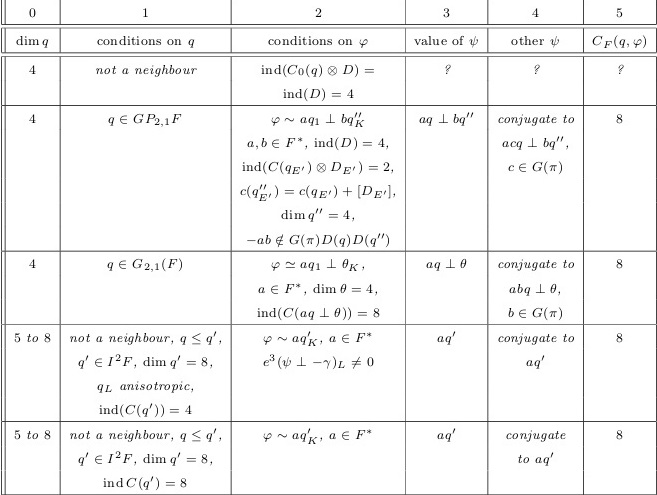column: (242, 1, 396, 495), (71, 1, 221, 495), (497, 2, 576, 495), (415, 1, 480, 495), (593, 2, 648, 495), (15, 1, 50, 495)
row: (1, 110, 657, 129), (5, 183, 657, 200), (2, 451, 657, 467), (3, 354, 657, 370), (2, 160, 657, 175), (2, 257, 657, 272), (1, 234, 657, 248), (1, 306, 657, 320), (1, 476, 657, 490), (3, 36, 657, 50), (4, 207, 657, 221), (4, 331, 657, 345), (2, 404, 657, 417), (5, 65, 657, 78), (1, 429, 657, 441), (3, 137, 657, 149), (4, 283, 657, 295), (4, 381, 657, 393), (7, 87, 657, 99), (4, 8, 657, 19)
